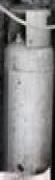cylinder: (1, 1, 55, 180)
